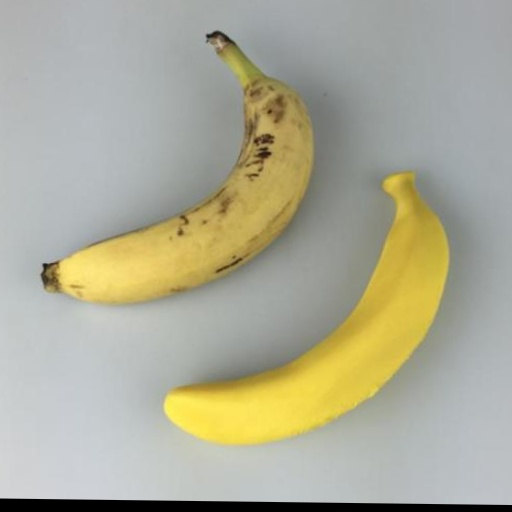fruit: (165, 173, 448, 444), (42, 32, 312, 303)
